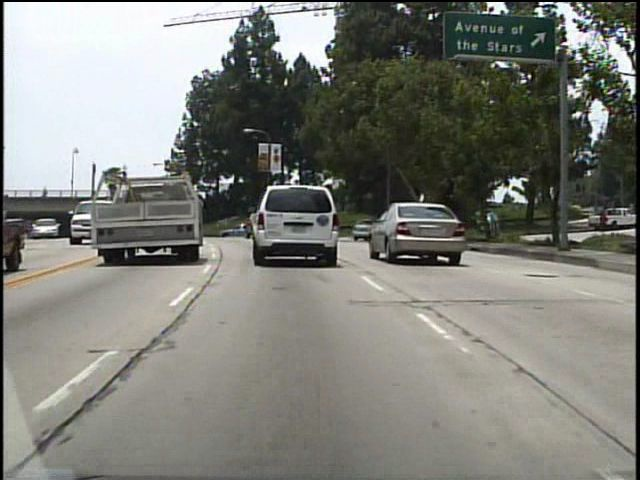person: (39, 183, 49, 203)
